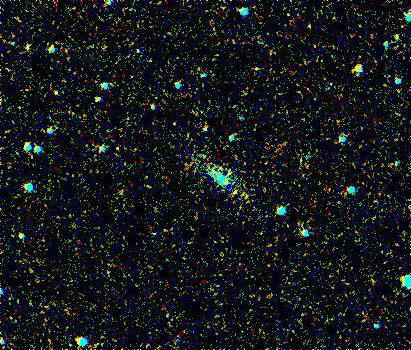star: (156, 109, 186, 139)
